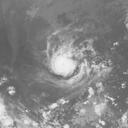cyclone: (49, 45, 86, 80)
